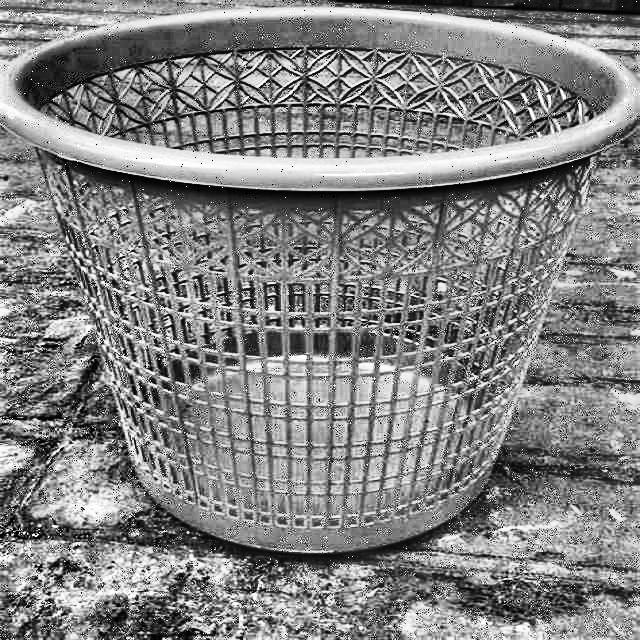Dustbin: (0, 4, 634, 592)
